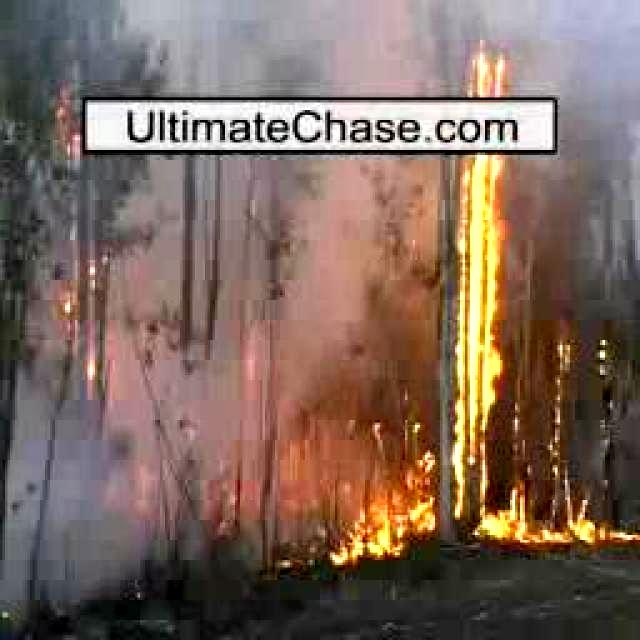fire: (448, 31, 528, 546), (355, 407, 437, 558), (532, 529, 632, 551)
